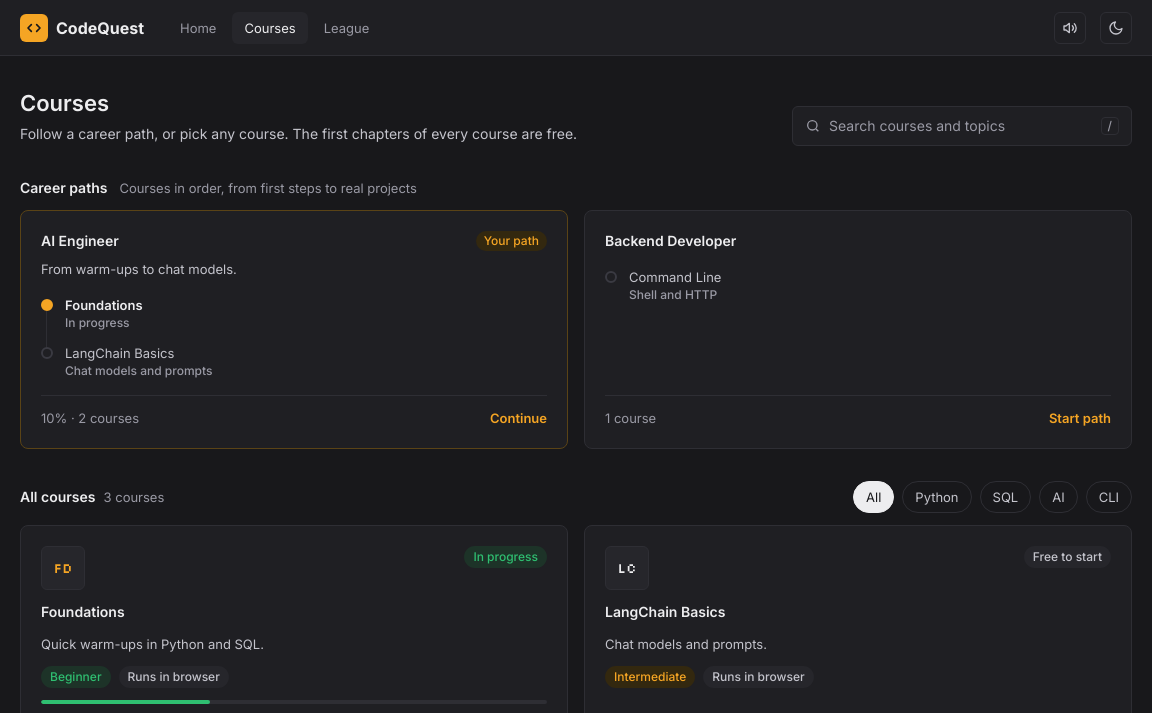
Test: CoursesPage › filters by topic and search, and "/" focuses search
This screenshot has width=1152, height=713.
Click the button "AI" at (1058, 497), box [1039, 481, 1078, 513]
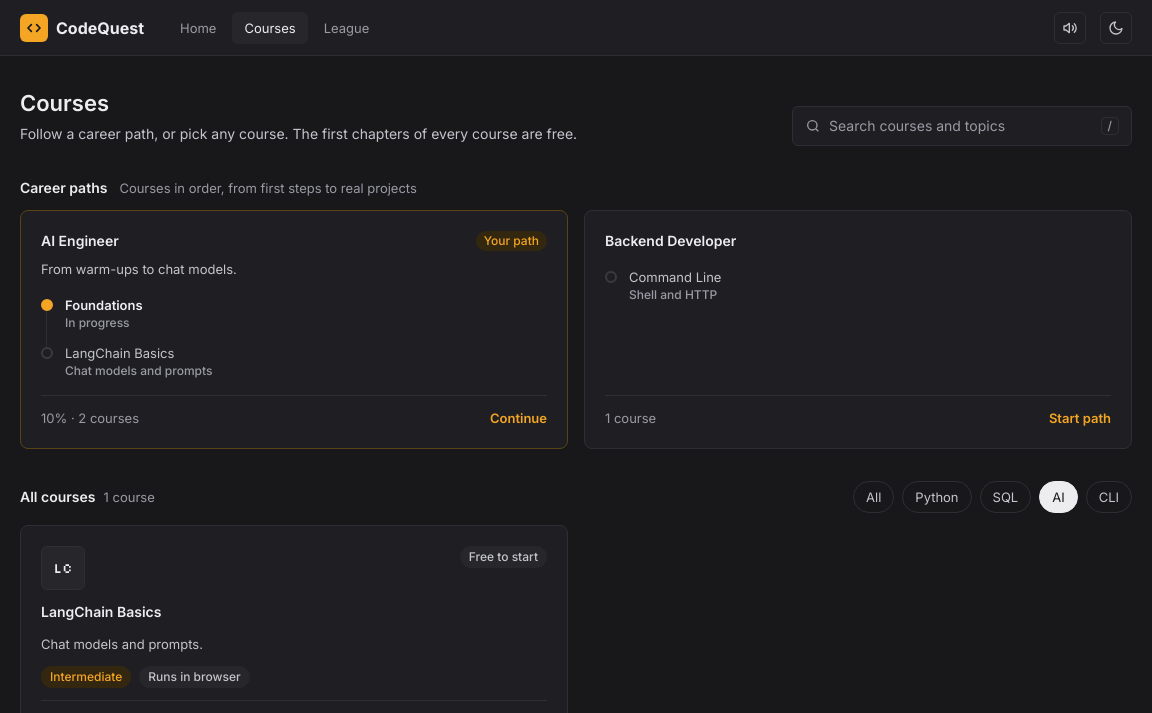
Now the button "AI" is pressed, box [1039, 481, 1078, 513]
Click the button "All" at (874, 497), box [853, 481, 894, 513]
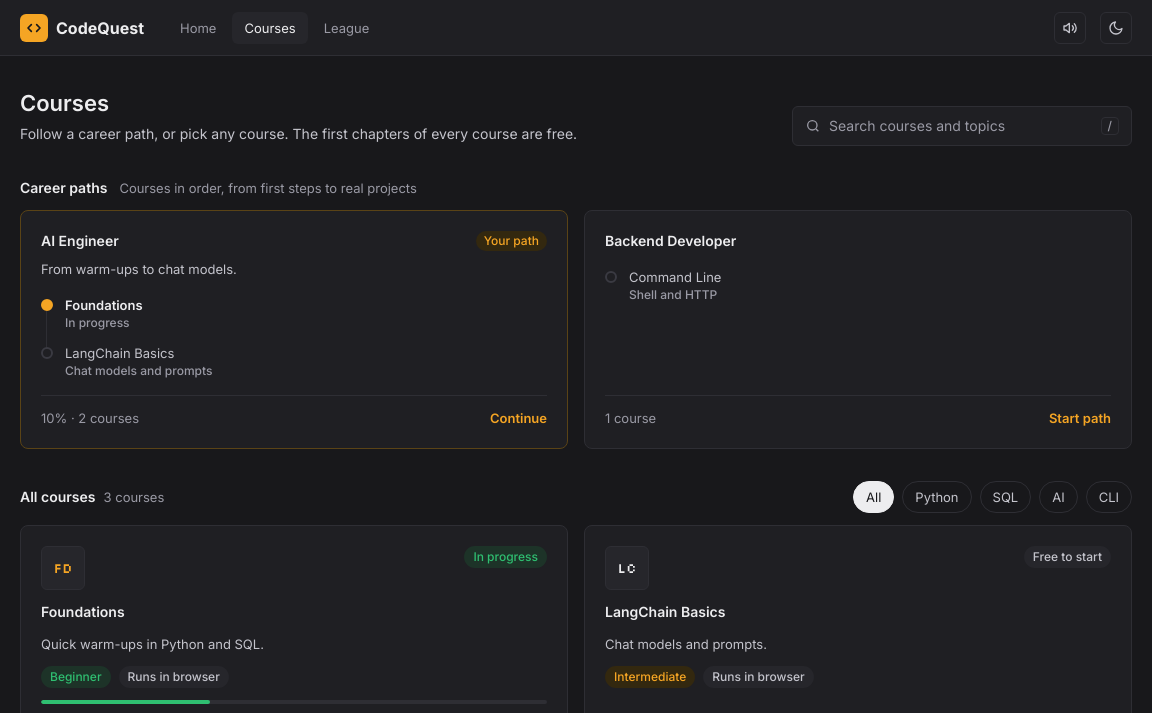
Press /
Type "nothing-matches" into the search field named "Search courses and topics" at (961, 126), box [829, 114, 1093, 138]
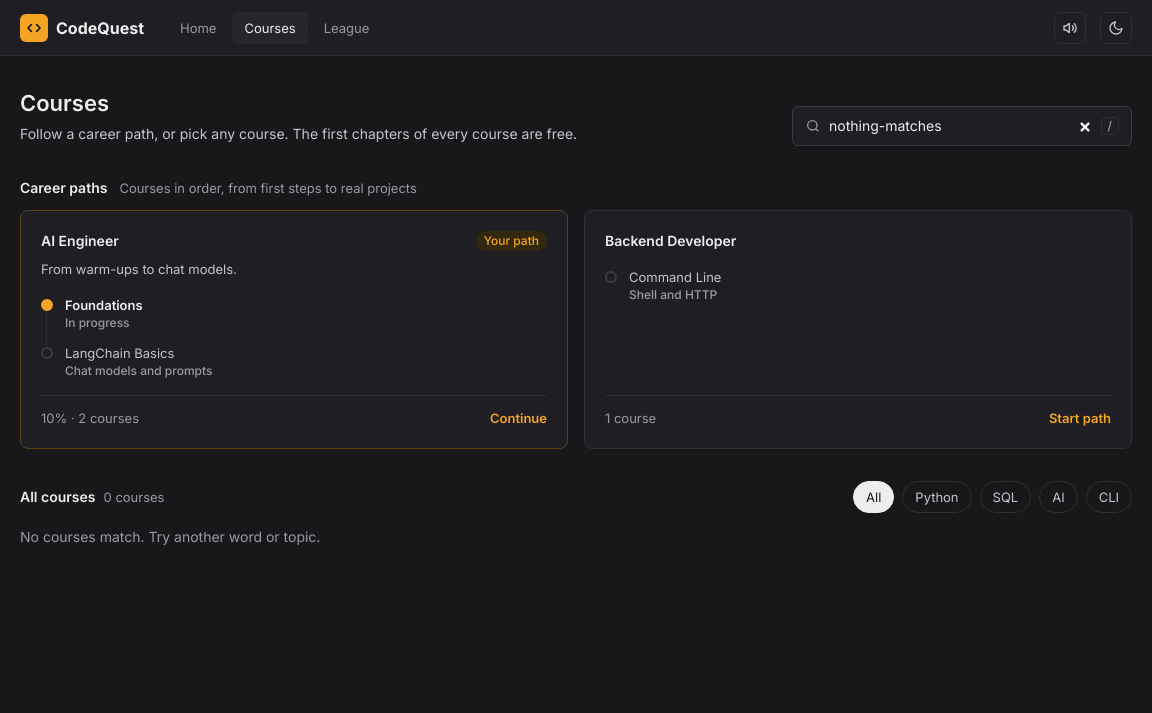
Now the element "All courses" shows "No courses match.", box [20, 528, 320, 545]
